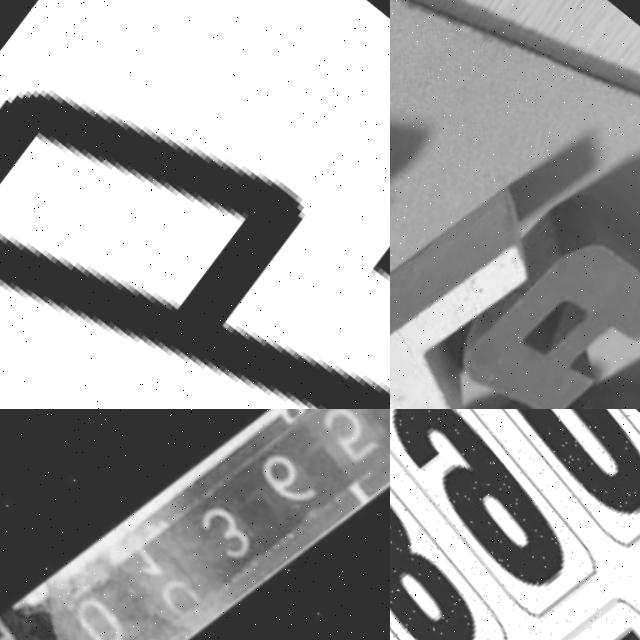0: (434, 409, 640, 538), (59, 585, 136, 640)
3: (181, 489, 266, 574)
5: (305, 409, 387, 466)
6: (0, 0, 390, 409), (245, 436, 329, 519)
8: (390, 425, 521, 640)
9: (390, 409, 610, 610)
L: (390, 139, 593, 409)
O: (499, 324, 640, 409)
